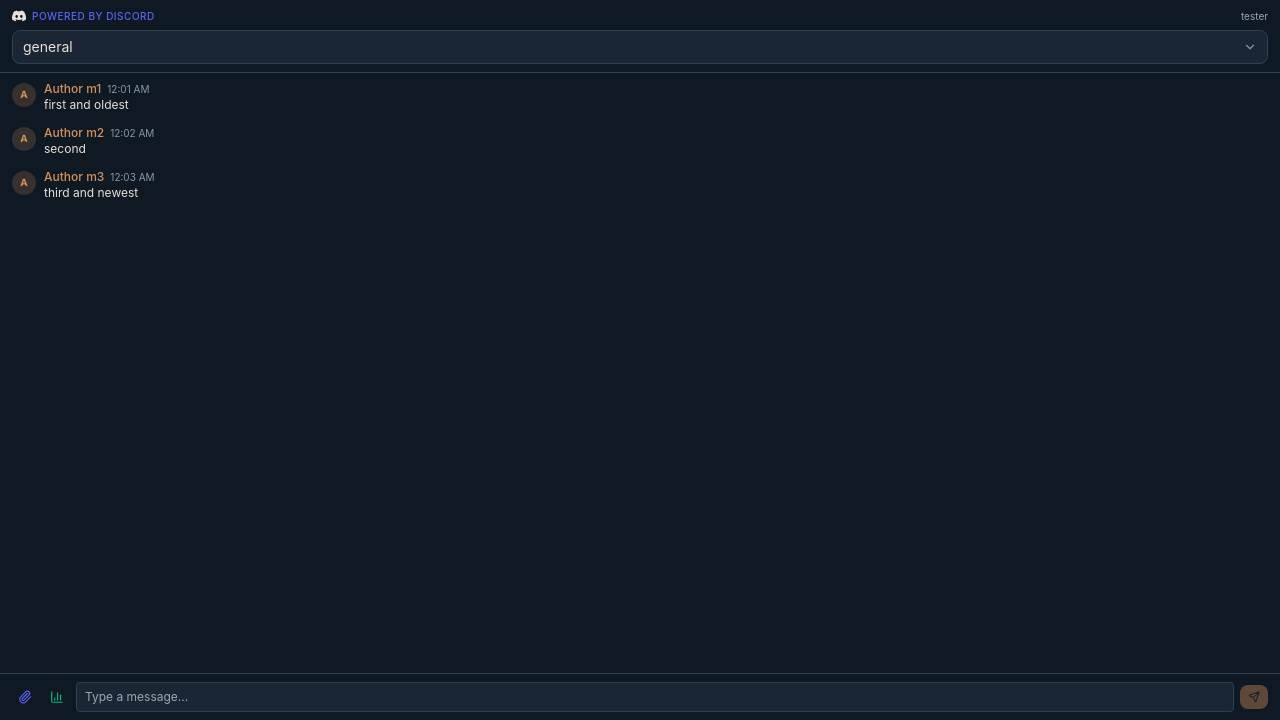
it: CommunitySidebar keeps a send to its own visit (R594, R483.1) › an answer from an earlier visit to the channel shown again is not shown
In the field with placeholder "Type a message...": {"x": 655, "y": 697} [76,682,1234,712], type "just sent"
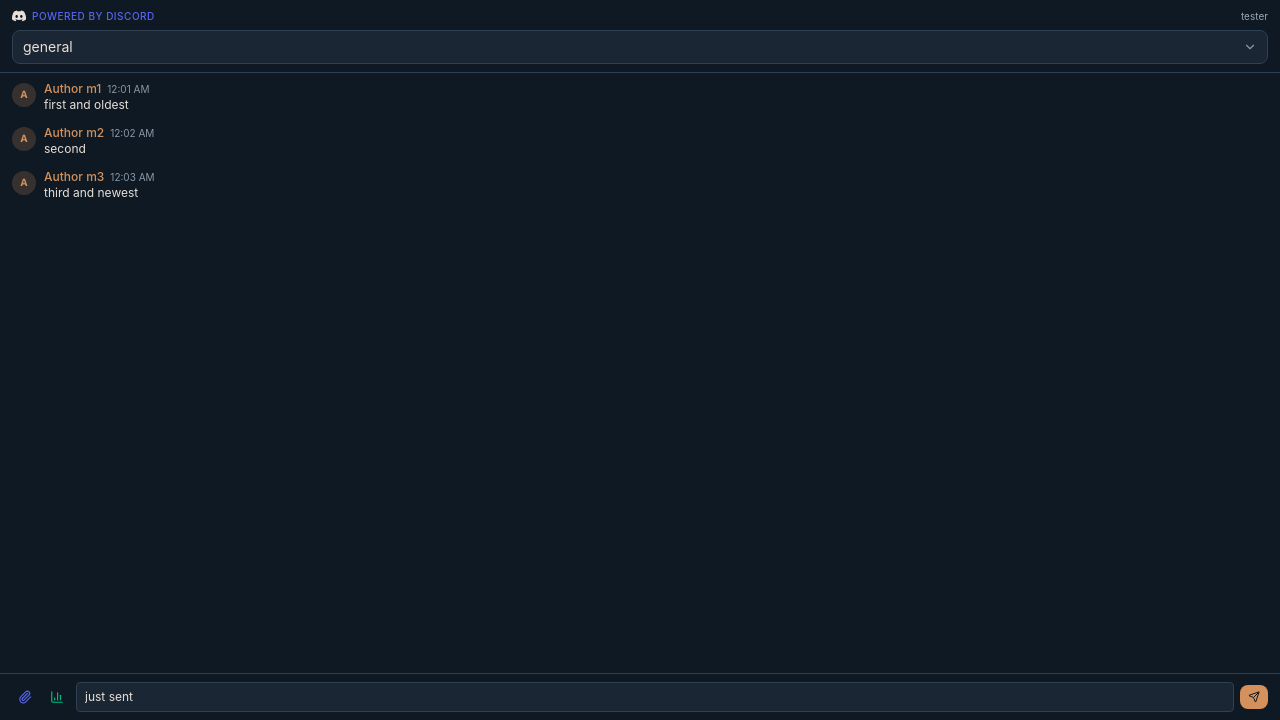
Press Enter in the field with placeholder "Type a message...", box [76,682,1234,712]
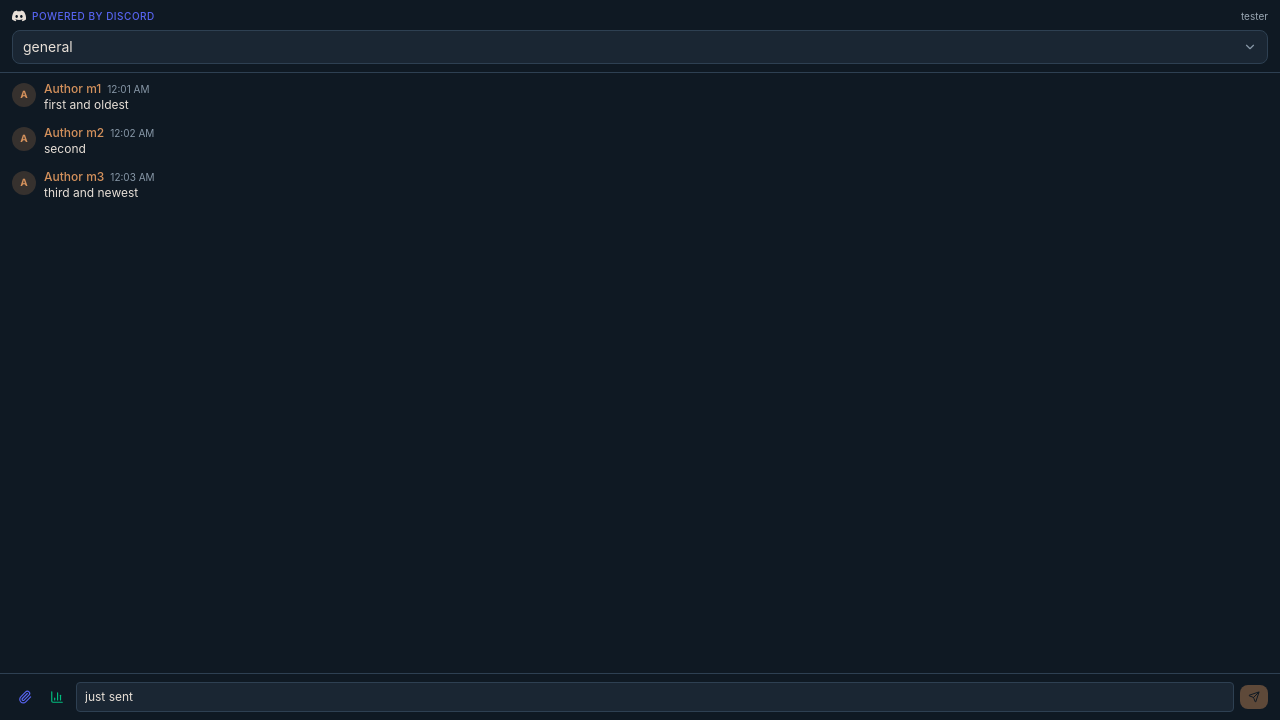
Click the button "general": {"x": 48, "y": 46} [12,30,1268,64]
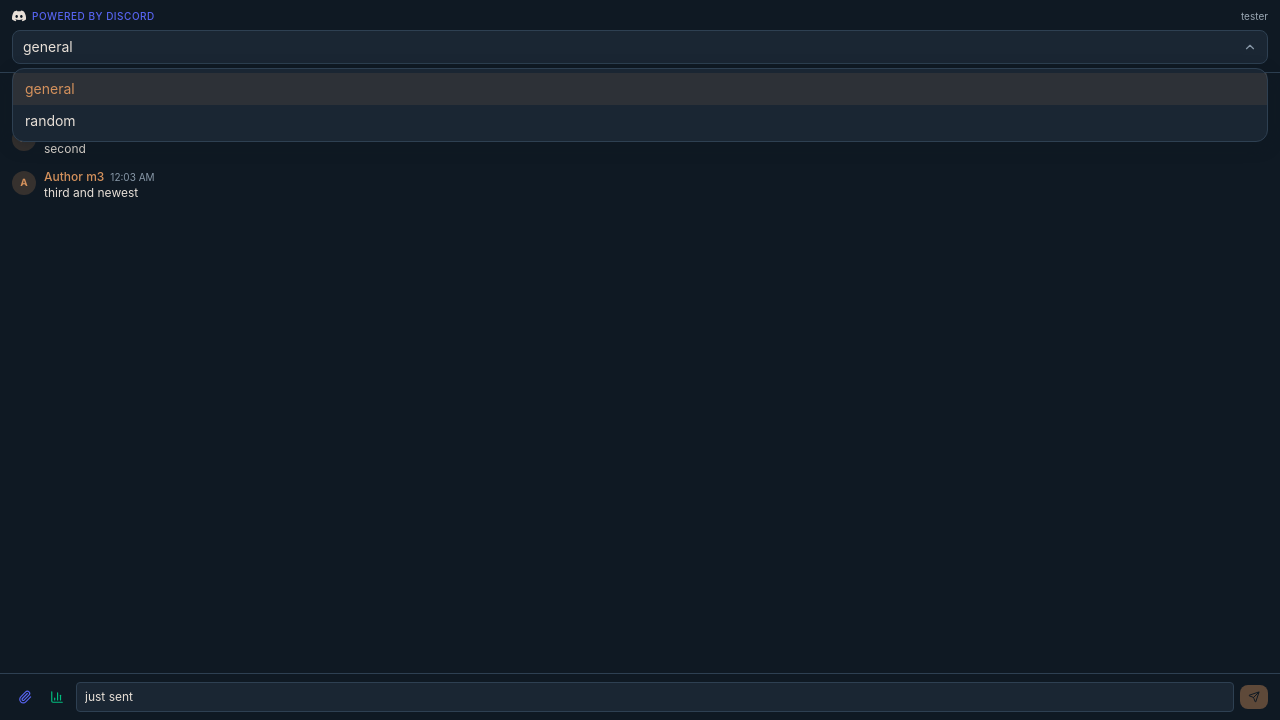
Click the button "random": {"x": 50, "y": 120} [13,105,1267,137]
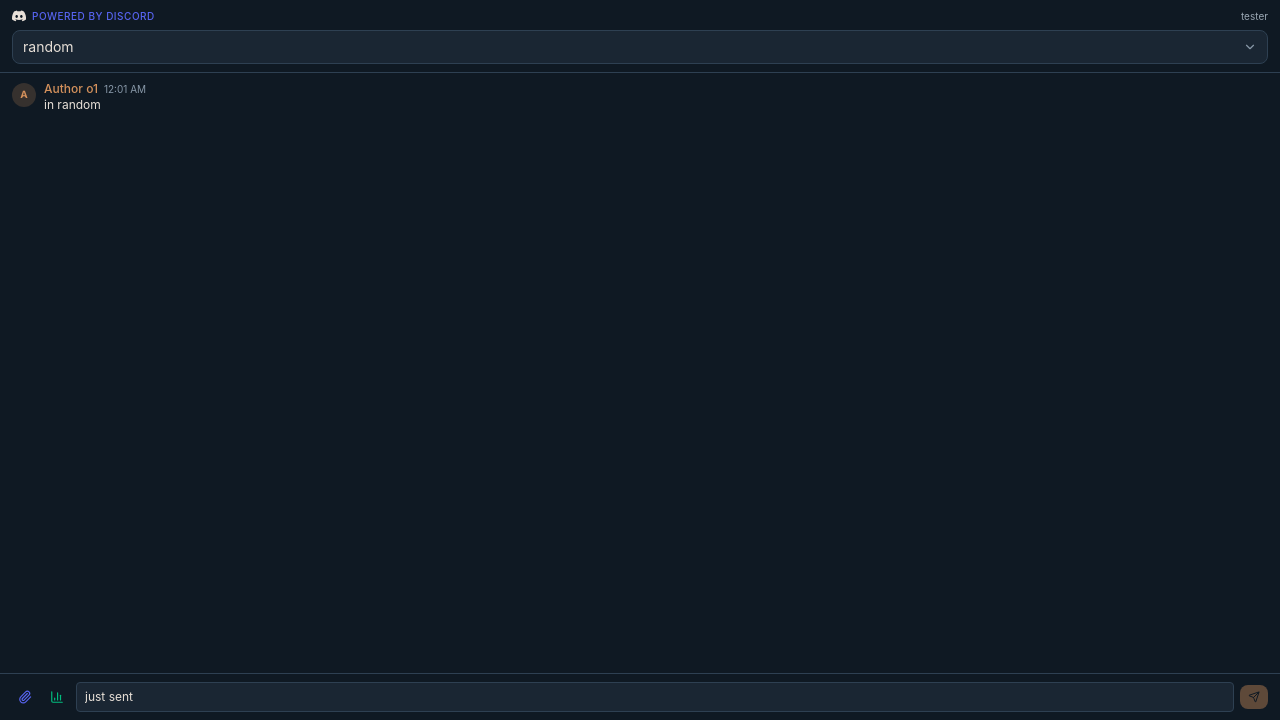
Check: the text "in random" is shown, box [44,97,101,112]
Click the button "random": {"x": 48, "y": 46} [12,30,1268,64]
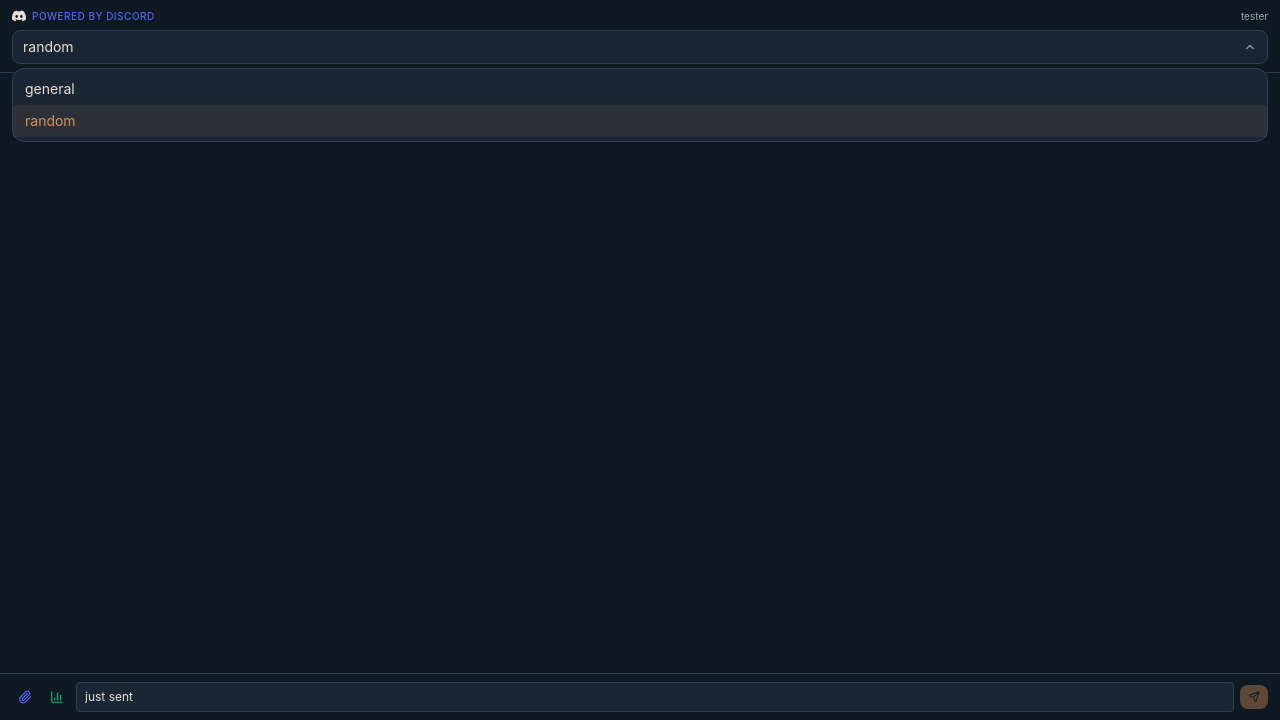
Click the button "general": {"x": 50, "y": 88} [13,73,1267,105]
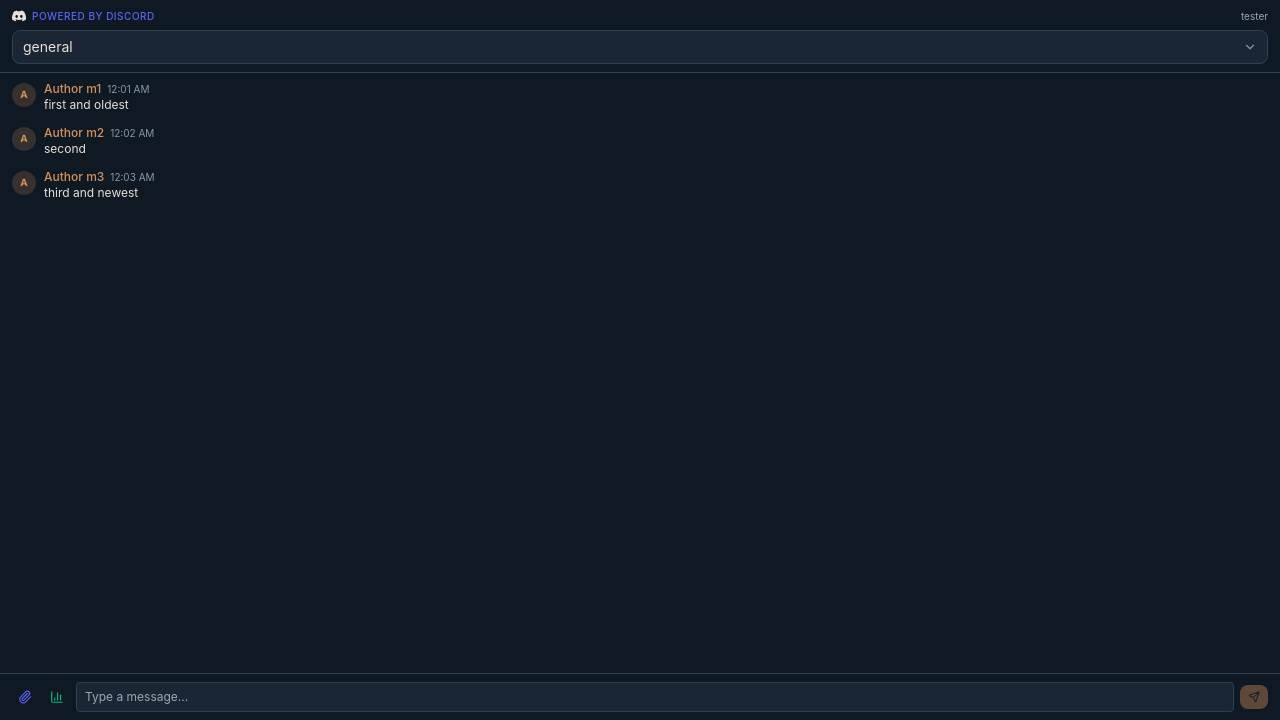
Check: the text "just sent" is not shown
Check: the text "in random" is gone
Check: the text "third and newest" is shown, box [44,185,138,200]
